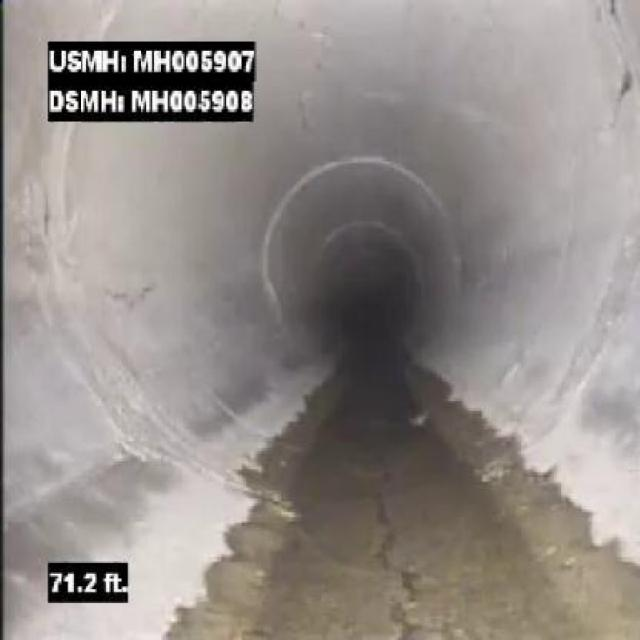Crack: (608, 0, 638, 111), (292, 52, 342, 111), (386, 568, 428, 638), (369, 495, 406, 574), (264, 0, 338, 38), (89, 278, 174, 311)
